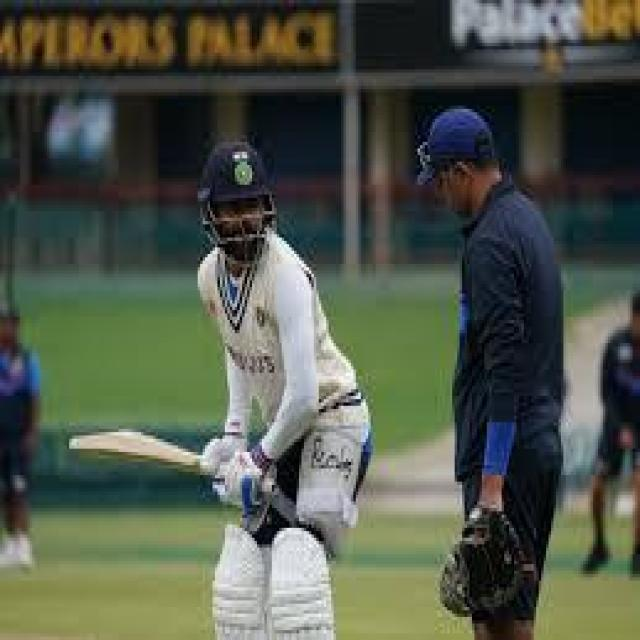bat: (63, 422, 206, 490)
toe: (61, 428, 87, 460)
